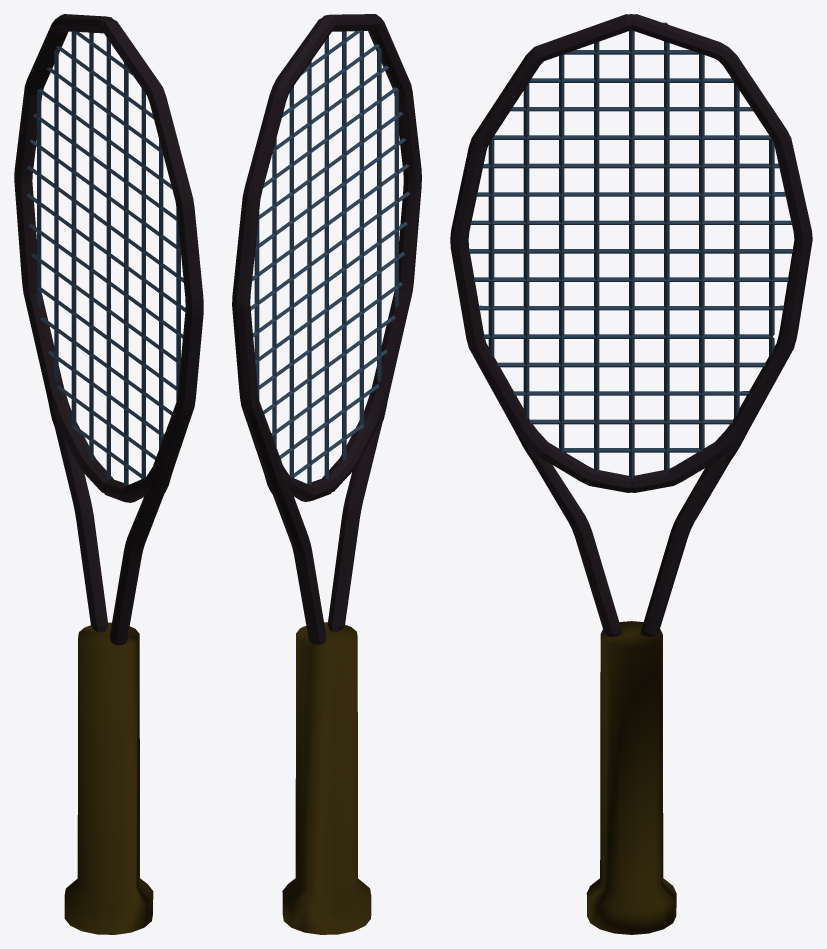
File: tennis racket2.fbx
The picture shows the model from 3 angles, left to right: view 1: azimuth 30°, elevation 25°; view 2: azimuth 150°, elevation 25°; view 3: azimuth 270°, elevation 25°; orthographic projection.
Visible parts, largest first — view 1: Vert.002, Plane, Point.002; view 2: Vert.002, Plane, Point.002; view 3: Plane, Vert.002, Point.002.
Boxes of the visible parts, box(x1,y1,x2,y2) form: Vert.002: box(14, 14, 203, 645); Plane: box(26, 16, 194, 496); Point.002: box(64, 622, 153, 934); Vert.002: box(232, 14, 421, 644); Plane: box(250, 30, 409, 485); Point.002: box(282, 622, 371, 934); Plane: box(469, 22, 793, 478); Vert.002: box(450, 14, 812, 636); Point.002: box(586, 621, 676, 934).
Bounding box in the file's own units: 8.75 × 97.01 × 35.33.
